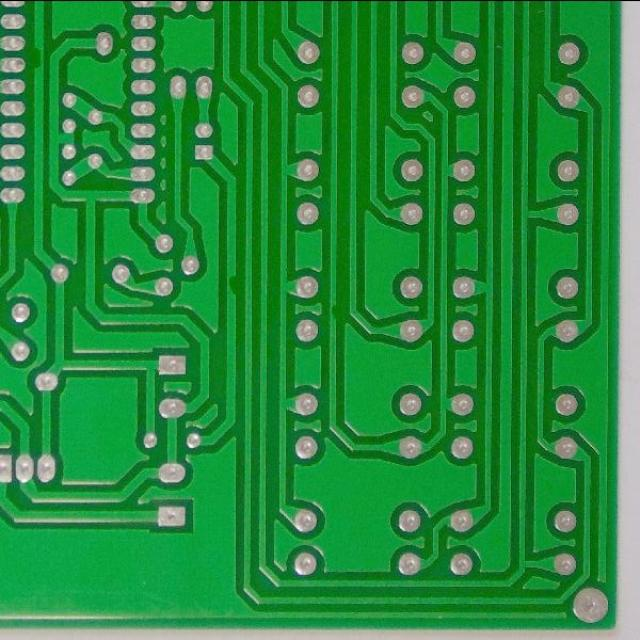MouseBite: (31, 42, 47, 74), (224, 270, 240, 301), (328, 300, 339, 324)
